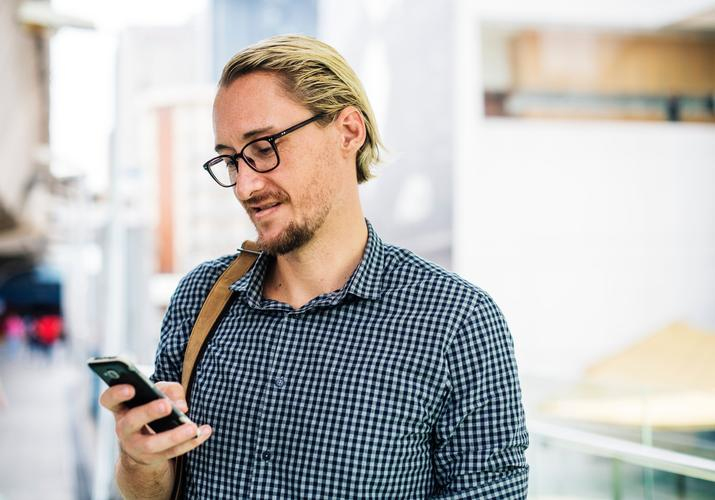reading: (83, 352, 215, 483)
